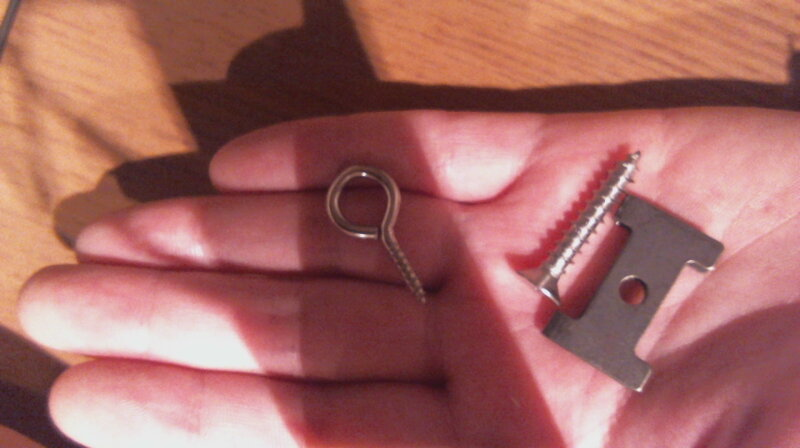O001: (317, 156, 438, 311)
O002: (536, 190, 728, 395)
S001: (514, 143, 643, 307)
